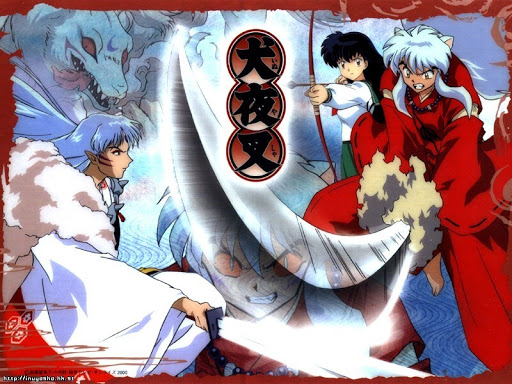sesshomaru: (48, 113, 144, 201)
